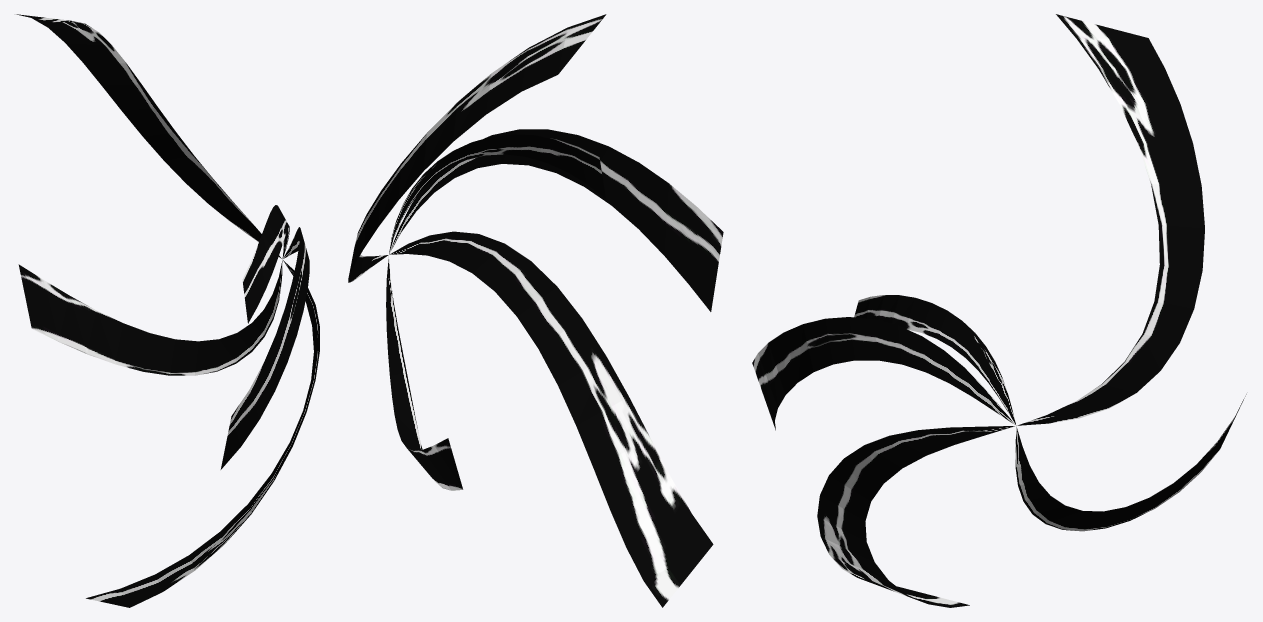
The model's file is Rasengan_CreateSmoke.fbx.
3 views of the same model, side by side, from view 1: azimuth 30°, elevation 25°; view 2: azimuth 150°, elevation 25°; view 3: azimuth 270°, elevation 25° (orthographic). The views are drawn at different scales.
Parts seen in each view (by area): view 1: SM_WEP_Eff_Rasengan_E_01.mo; view 2: SM_WEP_Eff_Rasengan_E_01.mo; view 3: SM_WEP_Eff_Rasengan_E_01.mo.
Boxes of the visible parts, box(x1,y1,x2,y2) form: SM_WEP_Eff_Rasengan_E_01.mo: box(16, 14, 319, 607); SM_WEP_Eff_Rasengan_E_01.mo: box(348, 14, 723, 607); SM_WEP_Eff_Rasengan_E_01.mo: box(752, 14, 1246, 607).
Size of the model in its own units: 3.12 by 7.43 by 5.61.
